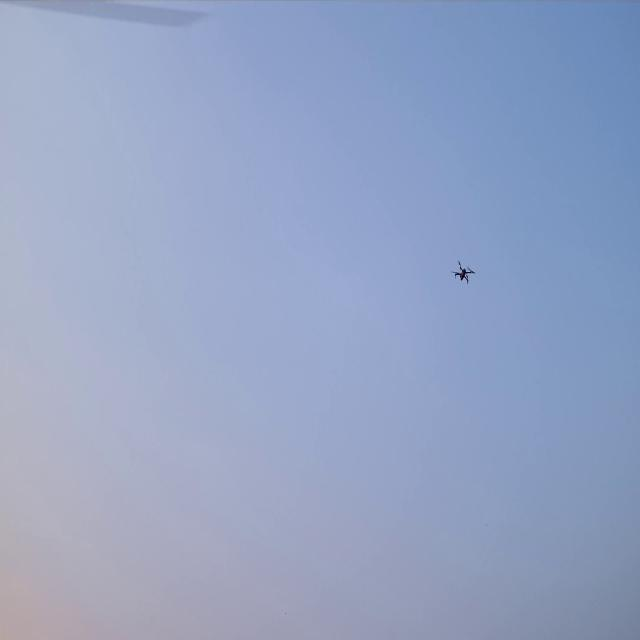UAV: (450, 258, 476, 286)
